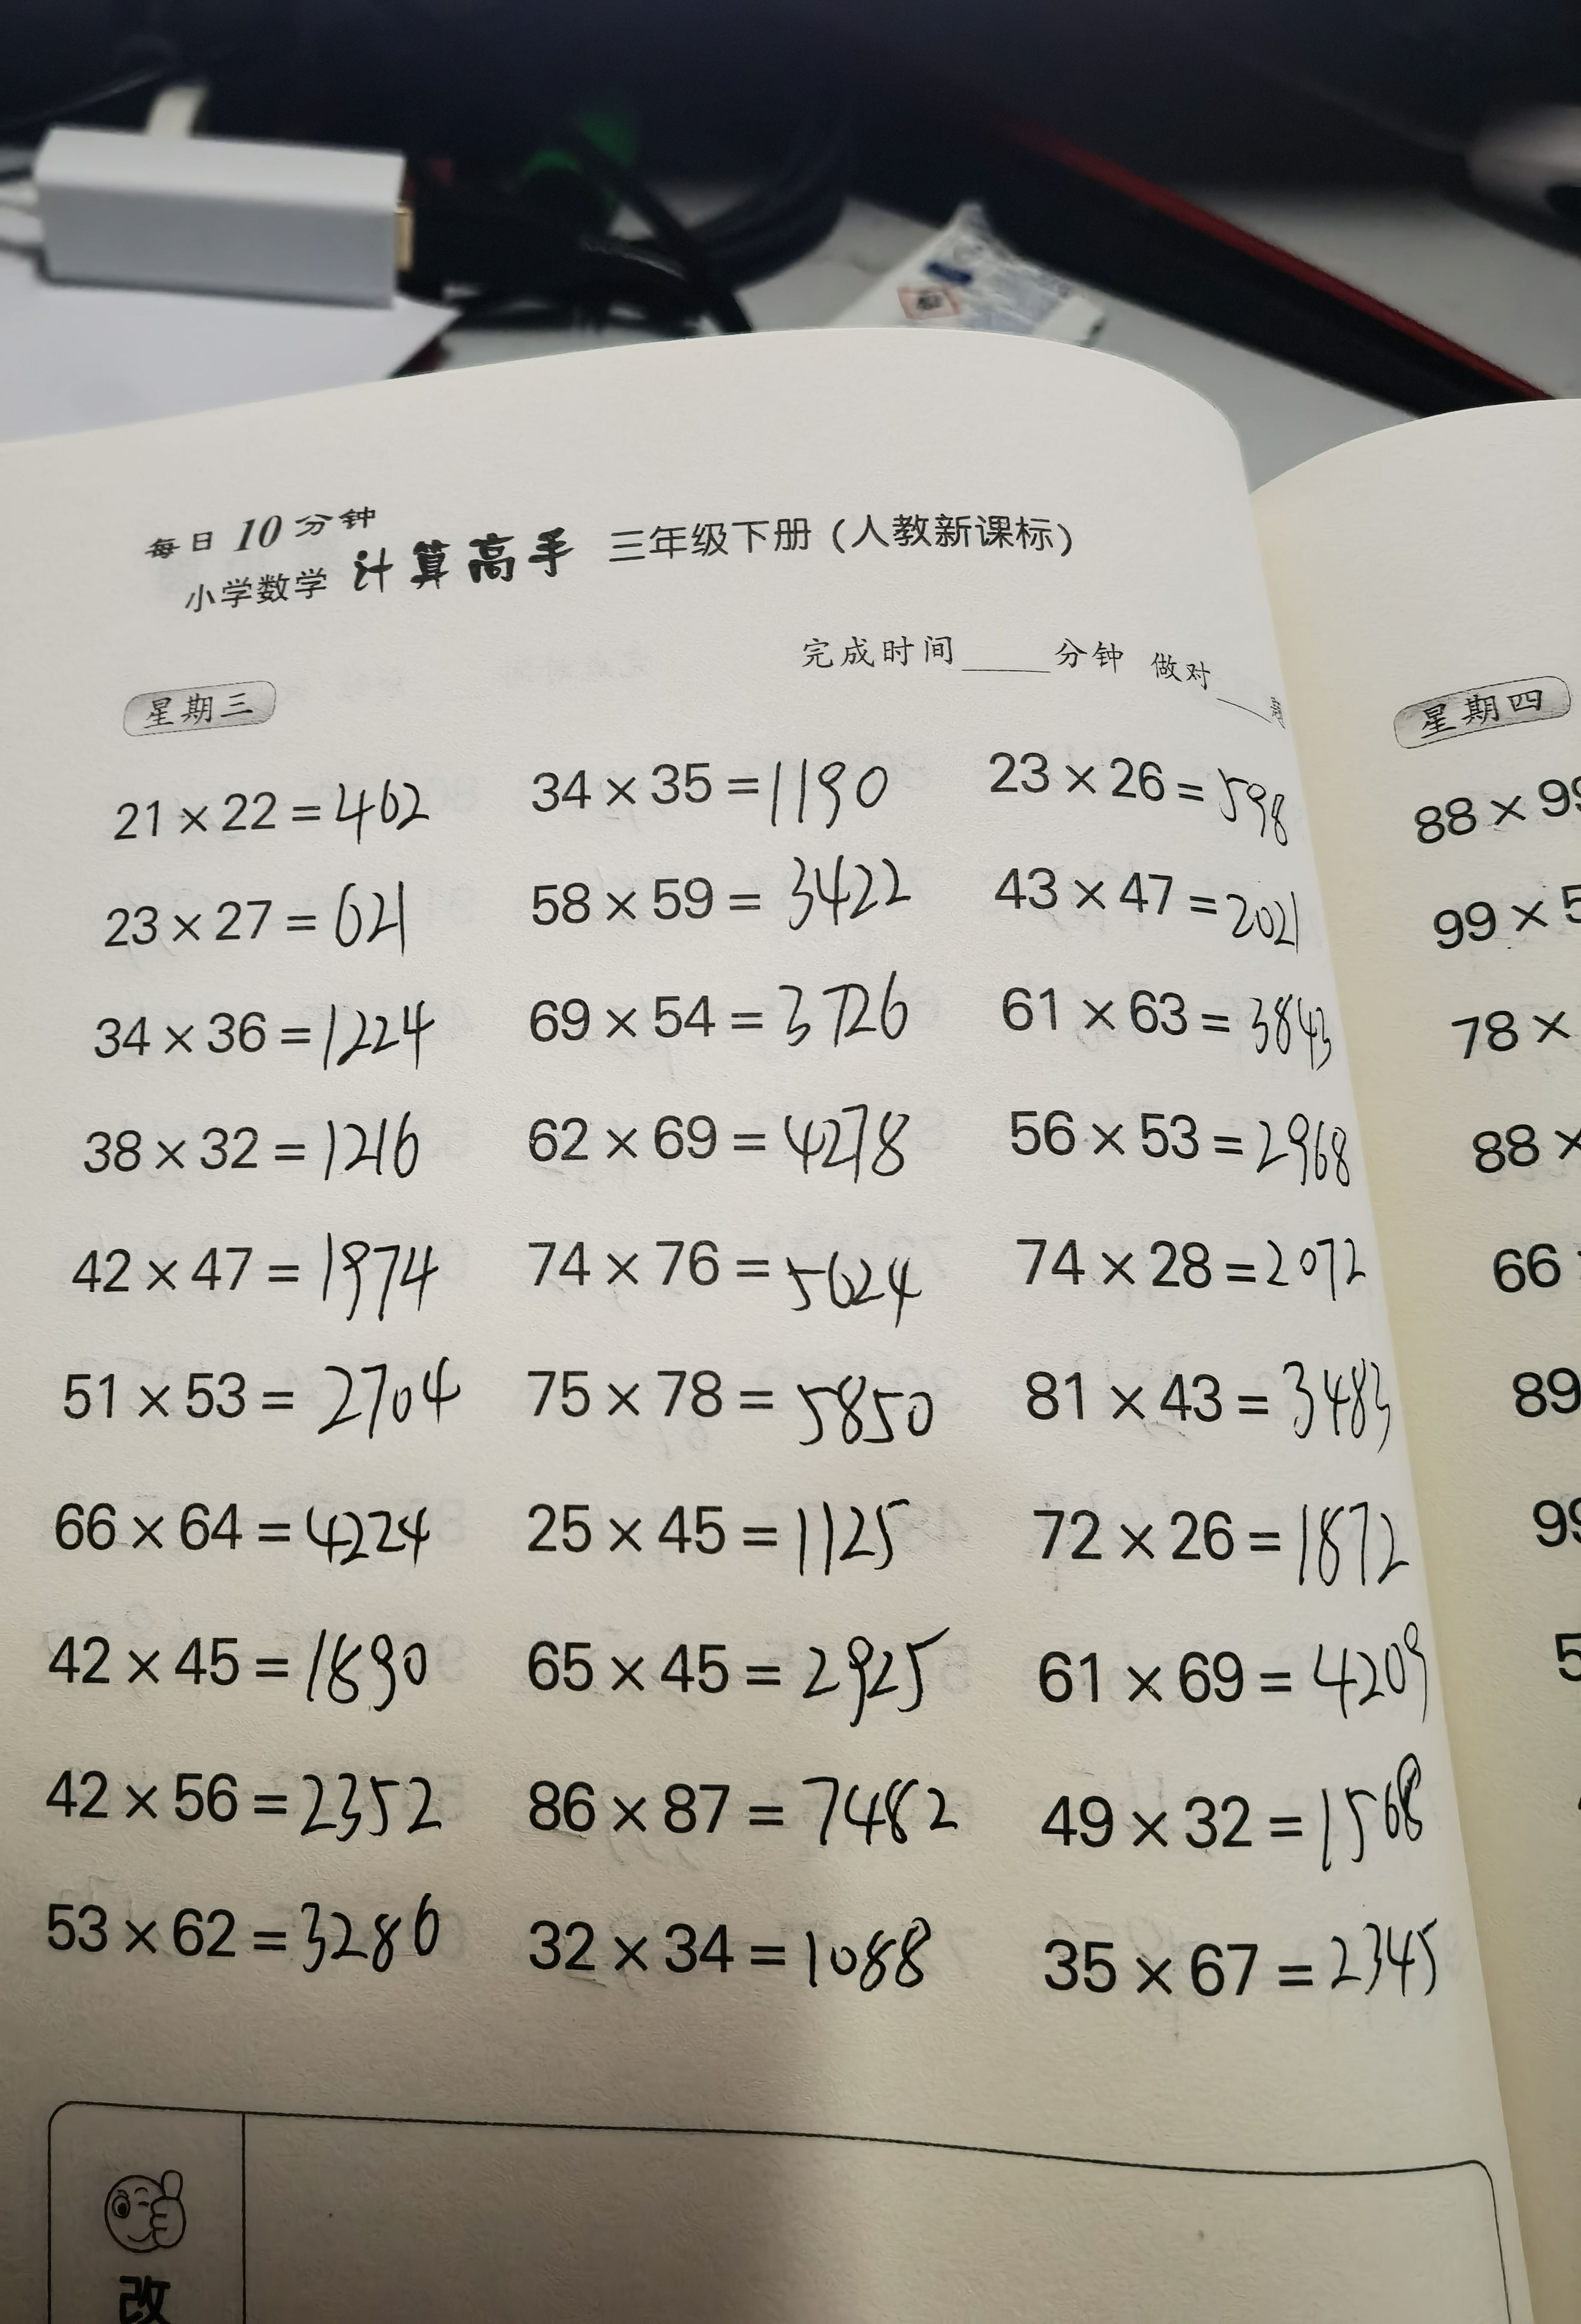equation: (510, 1599, 972, 1729), (524, 1207, 949, 1348), (522, 1881, 981, 2010), (526, 1451, 930, 1595), (1009, 1616, 1465, 1743), (1034, 1752, 1456, 1883), (1034, 1906, 1479, 2029), (1020, 1484, 1468, 1606), (1002, 1329, 1436, 1452), (25, 1465, 473, 1583), (519, 1343, 963, 1459), (44, 1218, 469, 1338), (32, 1745, 466, 1862), (46, 1341, 478, 1456), (32, 1881, 464, 1996), (506, 953, 940, 1066), (988, 1214, 1392, 1332), (9, 1611, 450, 1719), (522, 1756, 970, 1862), (521, 1080, 932, 1193), (988, 965, 1359, 1089), (951, 732, 1318, 856), (515, 741, 919, 843), (990, 1106, 1373, 1214), (76, 1094, 466, 1196), (972, 856, 1330, 963), (83, 761, 459, 861), (85, 873, 461, 974), (88, 988, 455, 1083), (517, 866, 926, 948)
